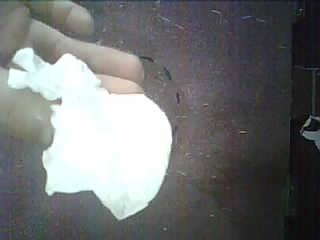paper: (9, 49, 172, 219)
